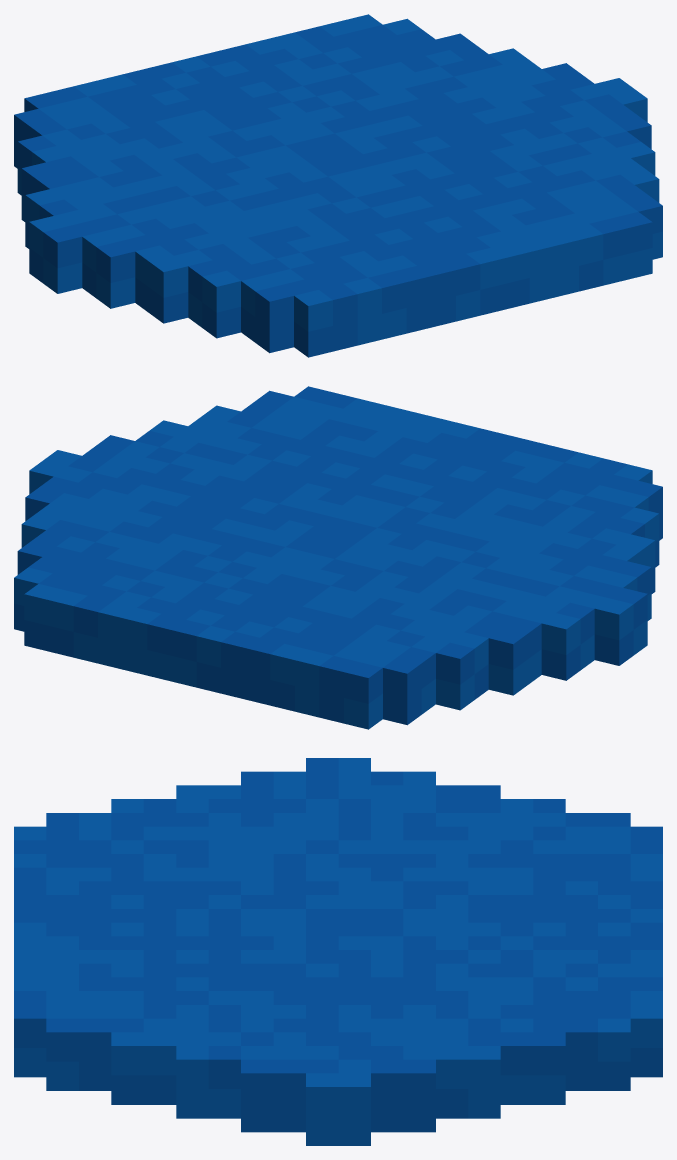
Rendered from overworld-32-ocean_2px.obj.
3 views of the same model, one above another, from view 1: azimuth 30°, elevation 25°; view 2: azimuth 150°, elevation 25°; view 3: azimuth 270°, elevation 25° (orthographic). The views are drawn at different scales.
Visible parts, largest first — view 1: ocean_2px; view 2: ocean_2px; view 3: ocean_2px.
Boxes of the visible parts, <box> form: ocean_2px: <box>14,14,662,357</box>; ocean_2px: <box>14,386,662,729</box>; ocean_2px: <box>14,758,662,1145</box>.
Size of the model in its own units: 2.4 by 0.2 by 2.
Materials: 1 (1 with a texture image).
